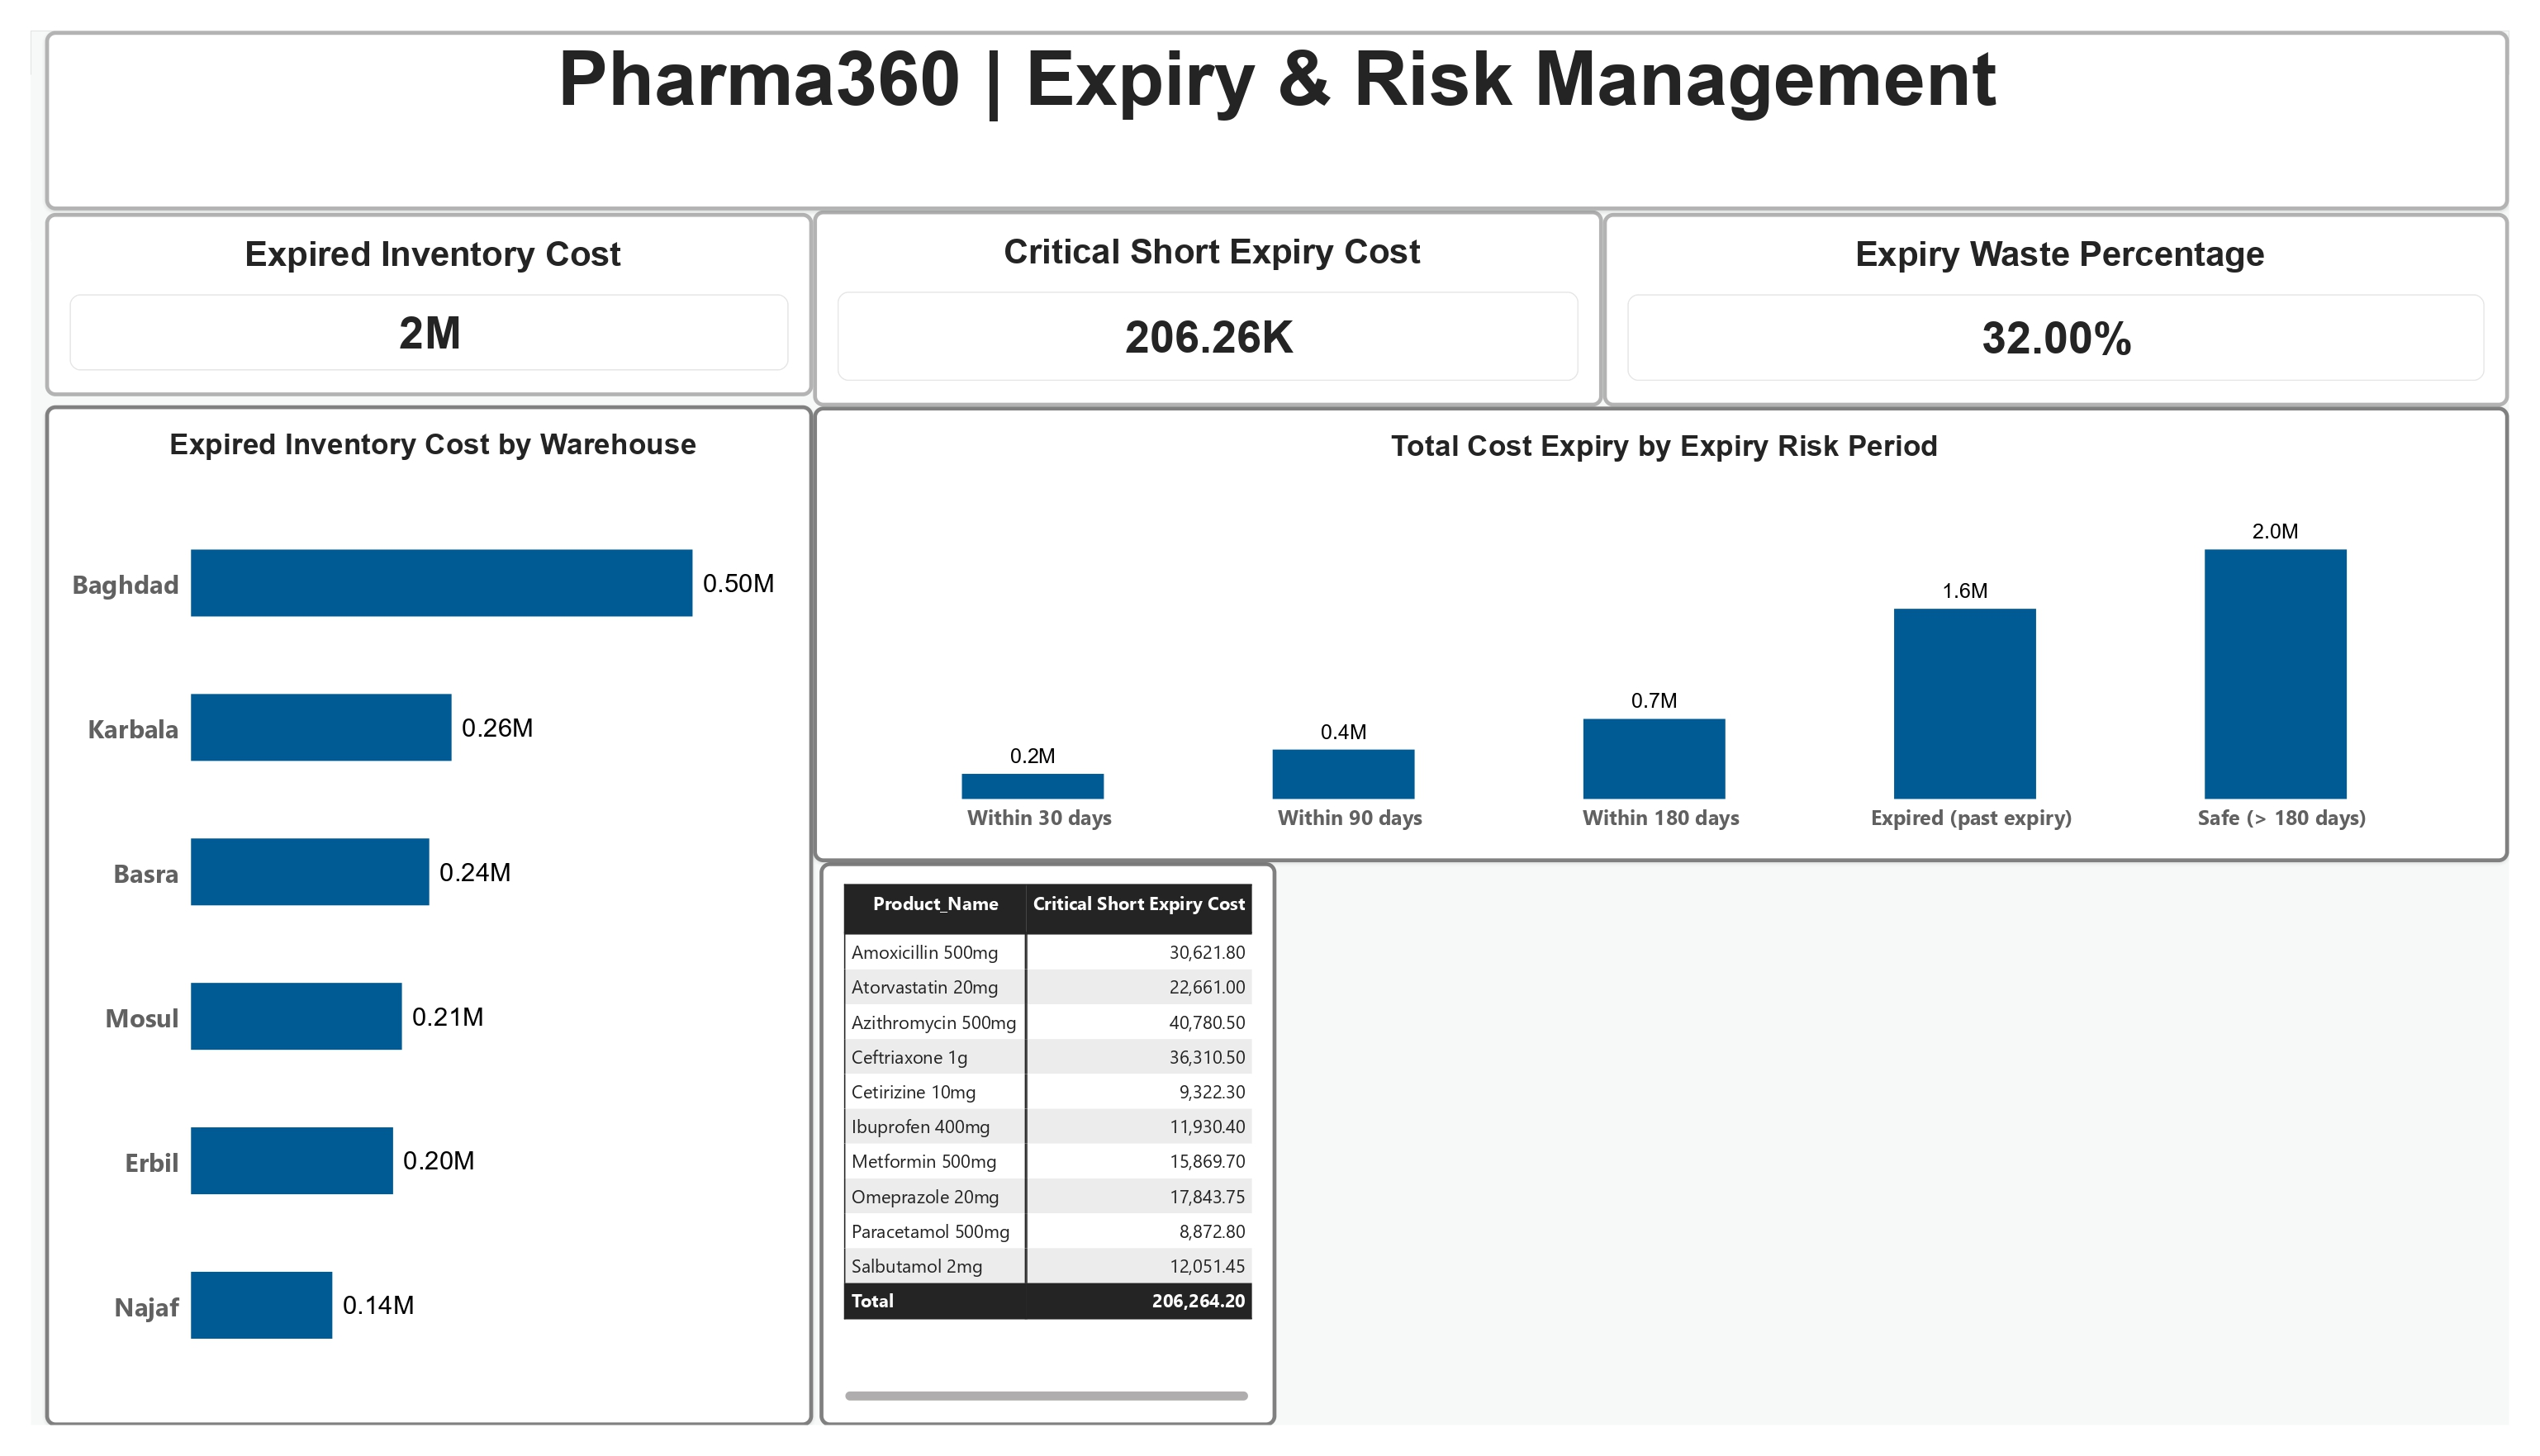

The dashboard page shown, as its layout file describes it:
{"tool":"powerbi","page":{"name":"Expiry & Risk Management","canvas":[1920,1080],"ordinal":3},"visuals":[{"type":"cardVisual","title":"Expired Inventory Cost","fields":{"Data":["pharma360 inventory.Expired_Inventory_Cost"]},"box":[10.7,141.3,595.1,141.3],"z":0},{"type":"cardVisual","title":"Critical Short Expiry Cost","fields":{"Data":["pharma360 inventory.Critical_Short_Expiry_Cost"]},"box":[605.8,139.1,612.2,152],"z":1000},{"type":"cardVisual","title":"Expiry Waste Percentage","fields":{"Data":["pharma360 inventory.Expiry_Waste_Percentage"]},"box":[1217.9,141.3,702.1,149.8],"z":2000},{"type":"barChart","title":"Expired Inventory Cost by Warehouse","fields":{"Category":["pharma360 inventory.Warehouse"],"Y":["pharma360 inventory.Expired_Inventory_Cost"]},"box":[10.7,289.6,595.3,791.1],"z":3000},{"type":"pivotTable","fields":{"Rows":["pharma360 inventory.Product_Name"],"Values":["pharma360 inventory.Critical_Short_Expiry_Cost"]},"box":[611.4,643.6,354,437.1],"z":4000},{"type":"textbox","box":[10.7,0,1909.3,139.4],"z":5000},{"type":"clusteredColumnChart","title":"Total Cost Expiry by Expiry Risk Period","fields":{"Category":["pharma360 inventory.Expiry_Risk_Period"],"Y":["pharma360 inventory.Total Cost Expiry"]},"box":[606,291,1314,353],"z":6000}]}

Visuals, with their boxes on the page's 1920x1080 design canvas (x1, y1, x2, y2). These are canvas units, not pixel positions in the 2540x1456 screenshot, which may show the page scaled, cropped or inside an application window:
"Expired Inventory Cost" cardVisual: [11,141,606,283]
"Critical Short Expiry Cost" cardVisual: [606,139,1218,291]
"Expiry Waste Percentage" cardVisual: [1218,141,1920,291]
"Expired Inventory Cost by Warehouse" barChart: [11,290,606,1081]
pivotTable - pharma360 inventory.Product_Name x pharma360 inventory.Critical_Short_Expiry_Cost: [611,644,965,1081]
textbox: [11,0,1920,139]
"Total Cost Expiry by Expiry Risk Period" clusteredColumnChart: [606,291,1920,644]
